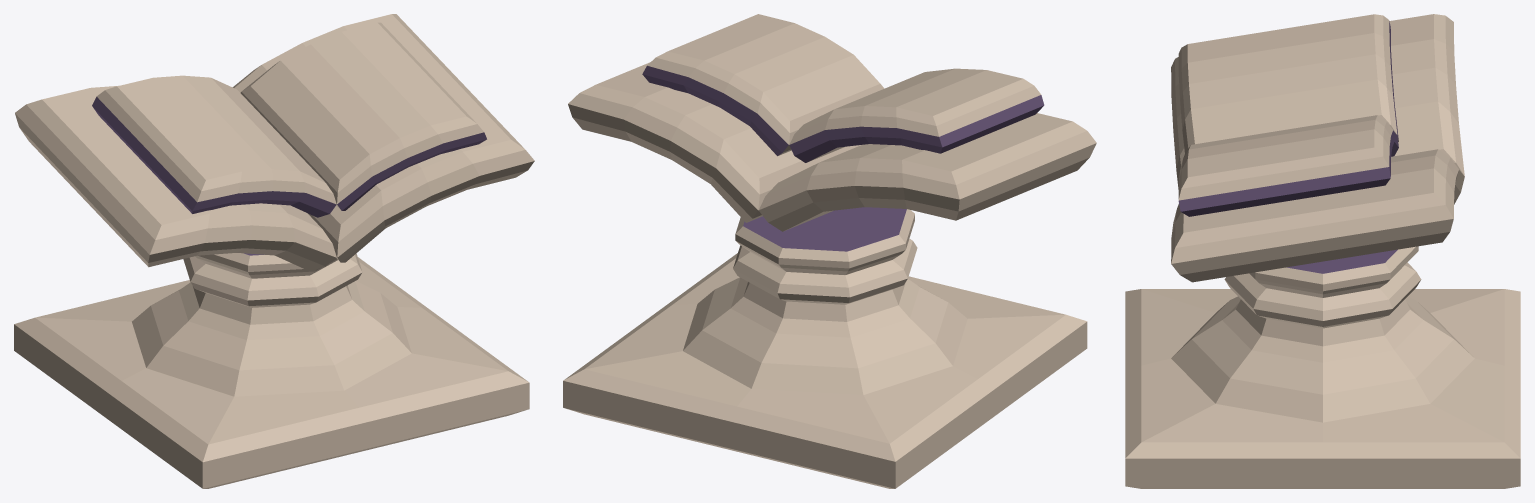
File: MS_Book01_Default01.fbx
The picture shows the model from 3 angles, left to right: view 1: azimuth 30°, elevation 25°; view 2: azimuth 150°, elevation 25°; view 3: azimuth 270°, elevation 25°; orthographic projection. The views are drawn at different scales.
Visible parts, largest first — view 1: MS_Book01_Default01; view 2: MS_Book01_Default01; view 3: MS_Book01_Default01.
Part boxes in pixels (bbox=[...]): MS_Book01_Default01: bbox=[14, 14, 534, 488]; MS_Book01_Default01: bbox=[563, 14, 1096, 488]; MS_Book01_Default01: bbox=[1125, 14, 1520, 488].
Bounding box in the file's own units: 97.79 × 76.75 × 82.99.
